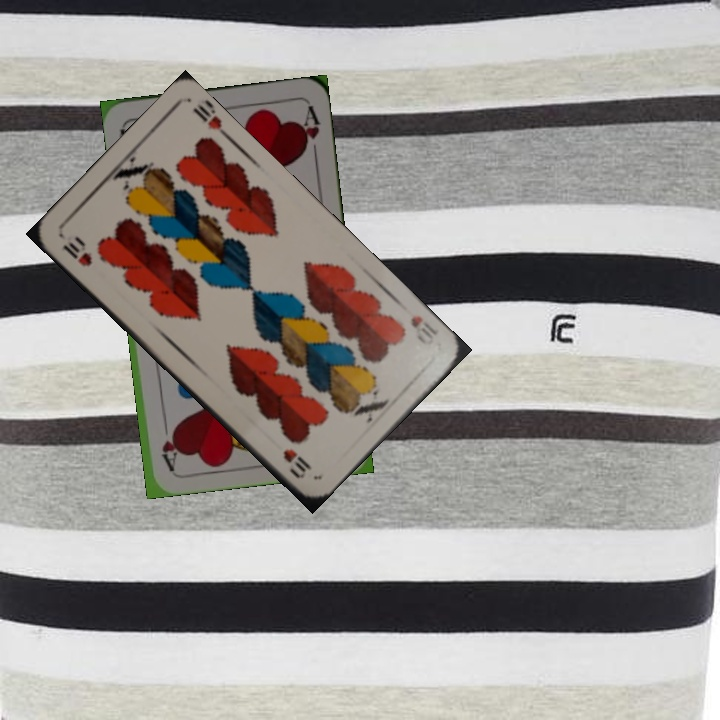H10: (58, 234, 95, 269), (406, 311, 441, 348)
